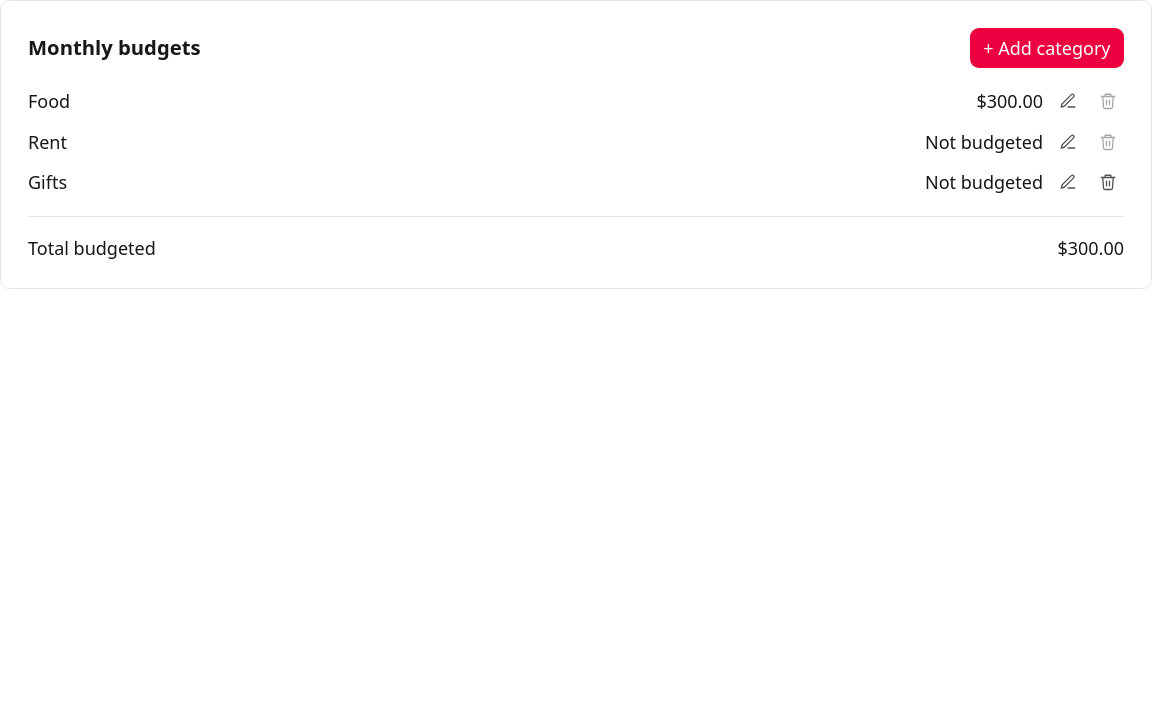
Scenario: BudgetSetup › saves an edited amount via PUT and closes the modal immediately, with no lingering success message
Expected: the text "Rent" is shown, [28,129,67,155]
Click the button named "Edit budget" in the row of "Rent". click: (1068, 142)
box: [1052,126,1084,158]
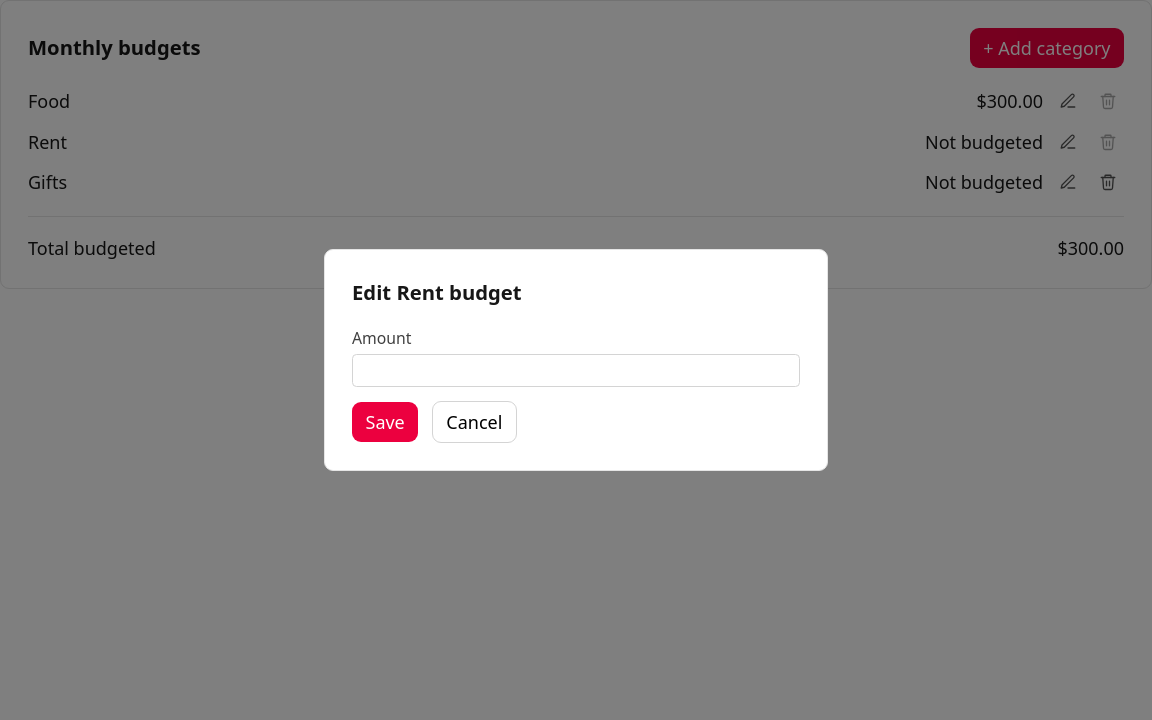
Type "1200" into the number field labelled "Amount". click: (576, 371)
box: [352,354,800,388]
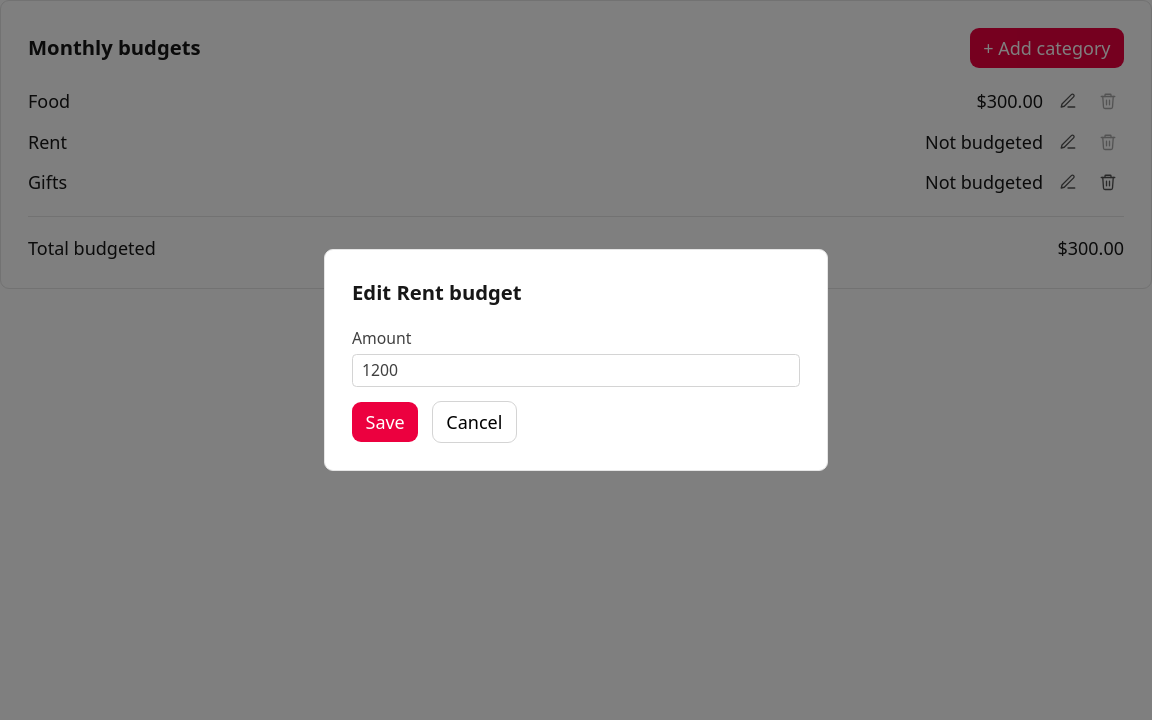
Click the button "Save". click: (385, 422)
box: [352,402,418,442]
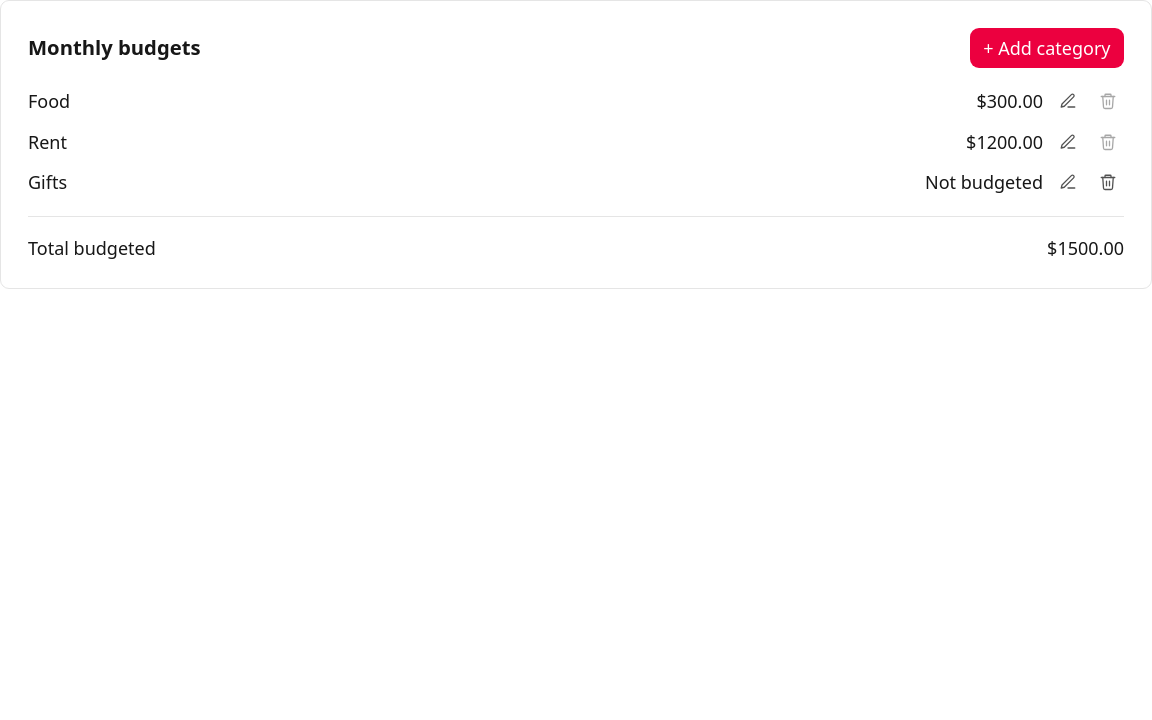
Expected: the dialog is gone
Expected: the text "$1200.00" is shown, [966,130,1043,154]
Expected: the text "$1500.00" is shown, [1047,235,1124,261]
